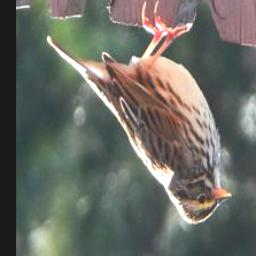Sparrow: (47, 4, 235, 229)
